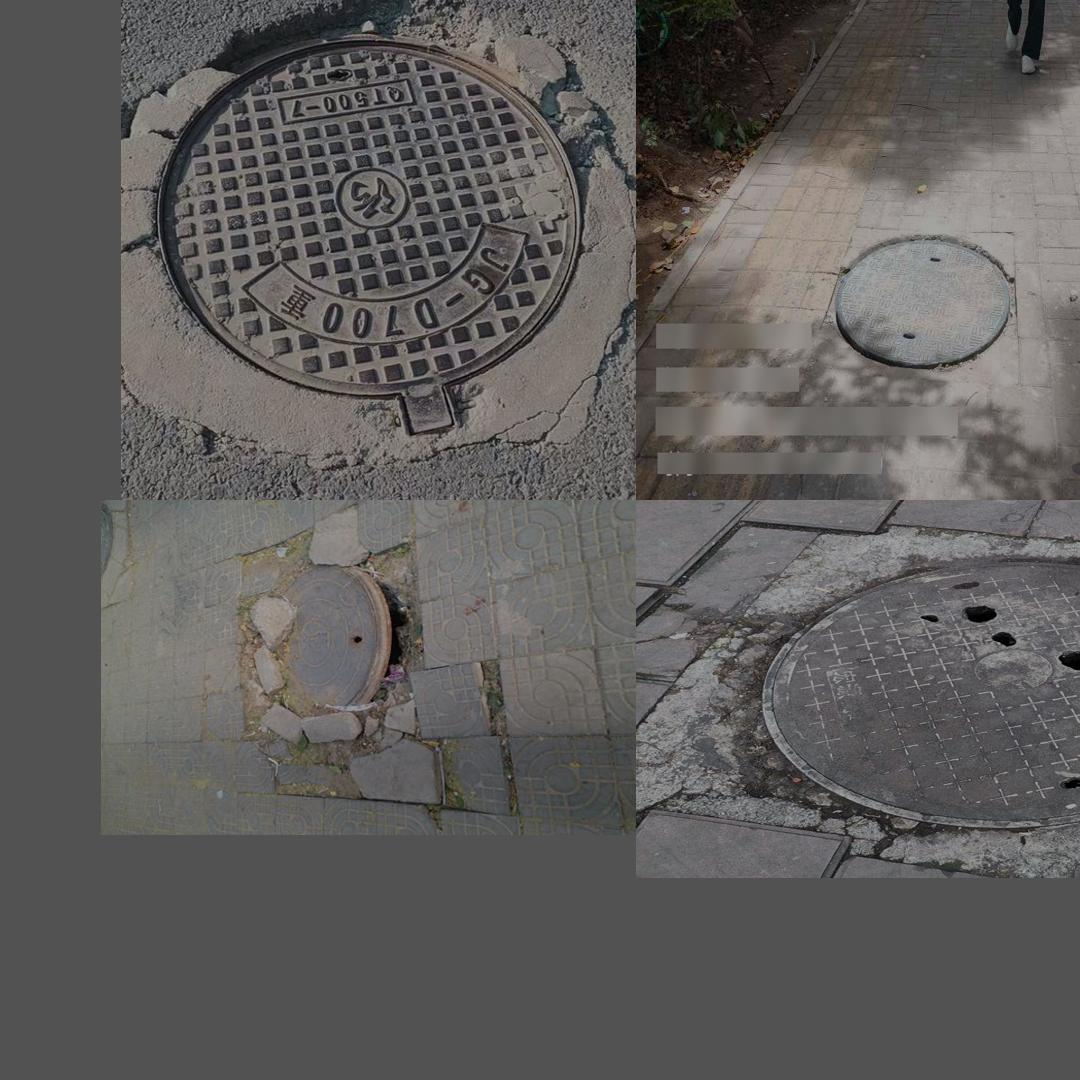circle: (136, 0, 618, 456), (656, 522, 1080, 869), (234, 542, 444, 807), (830, 233, 1015, 372)
